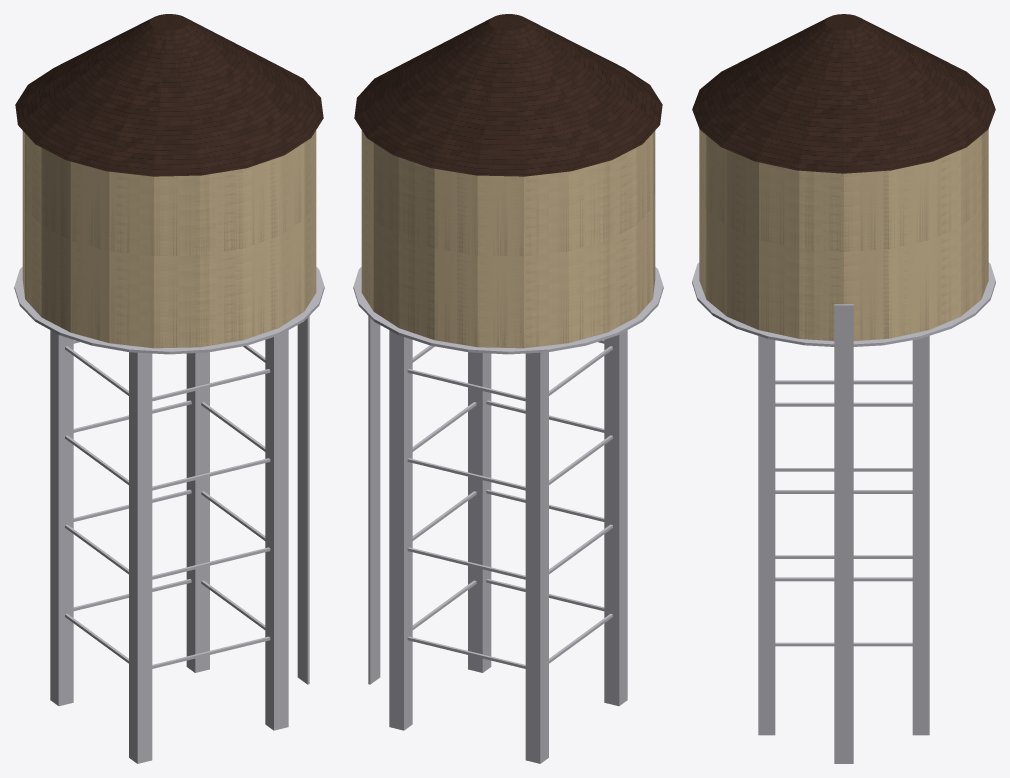
File: watertower.glb
The picture shows the model from 3 angles, left to right: view 1: azimuth 30°, elevation 25°; view 2: azimuth 150°, elevation 25°; view 3: azimuth 270°, elevation 25°; orthographic projection. The views are drawn at different scales.
Visible parts, largest first — view 1: tank, cap.001, leg, leg.002, leg.001, leg.003, ladder, rail, bx.002, bx, bx.004, bx.006; view 2: tank, cap.001, leg.001, leg.003, leg, leg.002, ladder, rail, bx.003, bx.001, bx.005, bx.007; view 3: tank, cap.001, ladder, leg.002, leg.003, rail, by, by.004, by.007, by.001.
Part boxes in pixels (<box>): tank: <box>22,130,316,348</box>; cap.001: <box>15,14,323,176</box>; leg: <box>129,352,152,763</box>; leg.002: <box>265,330,288,730</box>; leg.001: <box>50,330,73,706</box>; leg.003: <box>186,352,209,672</box>; ladder: <box>297,316,309,684</box>; rail: <box>14,267,324,354</box>; bx.002: <box>152,547,270,579</box>; bx: <box>152,636,270,668</box>; bx.004: <box>152,458,270,490</box>; bx.006: <box>152,369,270,401</box>; tank: <box>361,130,655,348</box>; cap.001: <box>354,14,662,176</box>; leg.001: <box>525,352,548,763</box>; leg.003: <box>389,330,412,730</box>; leg: <box>604,330,627,706</box>; leg.002: <box>468,352,491,672</box>; ladder: <box>368,316,380,684</box>; rail: <box>353,267,663,354</box>; bx.003: <box>407,547,525,579</box>; bx.001: <box>407,636,525,668</box>; bx.005: <box>407,458,525,490</box>; bx.007: <box>407,369,525,401</box>; tank: <box>699,129,988,341</box>; cap.001: <box>692,14,995,173</box>; ladder: <box>834,304,853,763</box>; leg.002: <box>758,336,775,735</box>; leg.003: <box>912,336,929,735</box>; rail: <box>692,262,995,346</box>; by: <box>775,577,912,581</box>; by.004: <box>775,402,912,406</box>; by.007: <box>775,380,912,384</box>; by.001: <box>775,642,912,646</box>.
Bounding box in the file's own units: 6.33 × 15.5 × 6.3.
3 materials, 2 textured.
